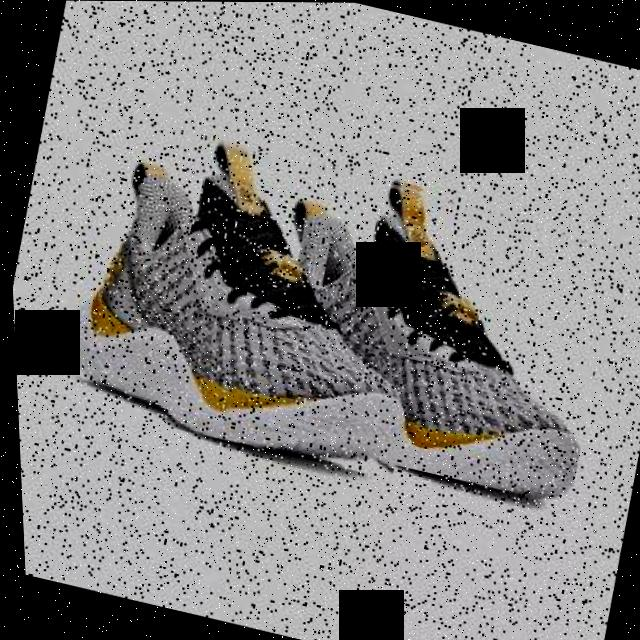shoe: (37, 110, 454, 479), (207, 149, 628, 505)
